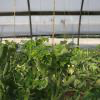Tomato leaf yellow virus: (53, 42, 66, 60), (12, 69, 26, 85), (35, 77, 51, 90), (31, 46, 47, 59), (59, 58, 71, 66)
